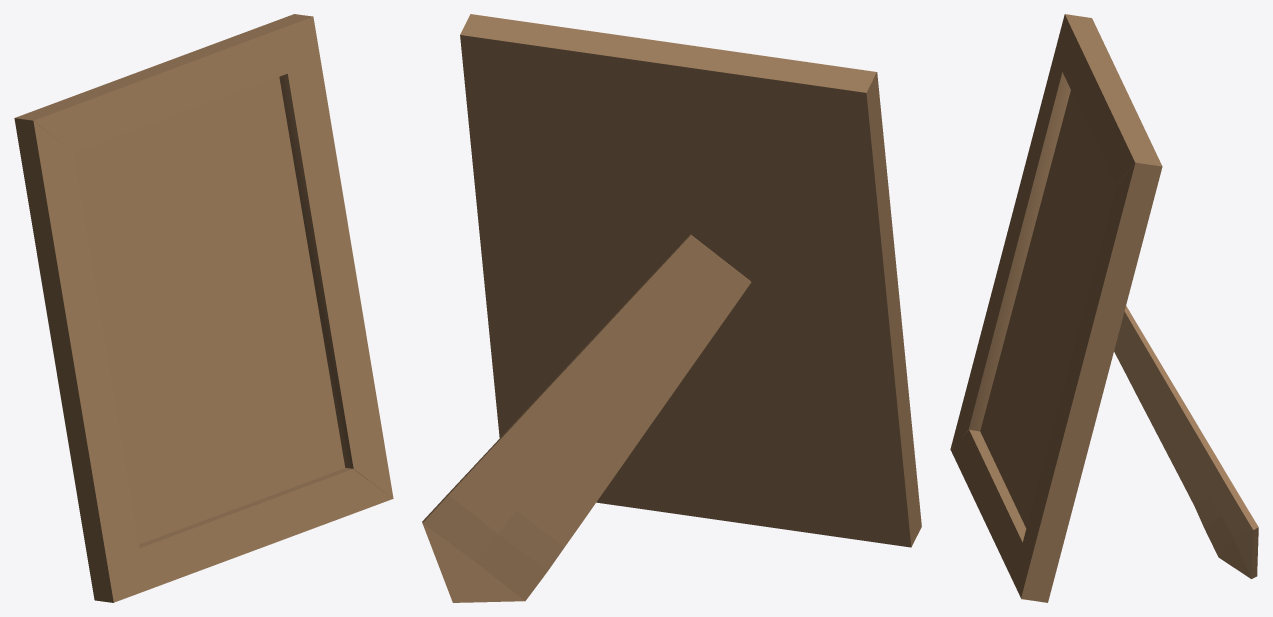
Rendered from ergoflex-picture-frame.glb.
The picture shows the model from 3 angles, left to right: view 1: azimuth 30°, elevation 25°; view 2: azimuth 150°, elevation 25°; view 3: azimuth 270°, elevation 25°; orthographic projection. The views are drawn at different scales.
Parts seen in each view (by area): view 1: Supplied picture-frame part 0; view 2: Supplied picture-frame part 0; view 3: Supplied picture-frame part 0.
Boxes of the visible parts, left/top/right/bottom form: Supplied picture-frame part 0: left=14, top=14, right=393, bottom=602; Supplied picture-frame part 0: left=422, top=14, right=921, bottom=602; Supplied picture-frame part 0: left=950, top=14, right=1258, bottom=602.
Size of the model in its own units: 0.1573 by 0.2 by 0.1278.
